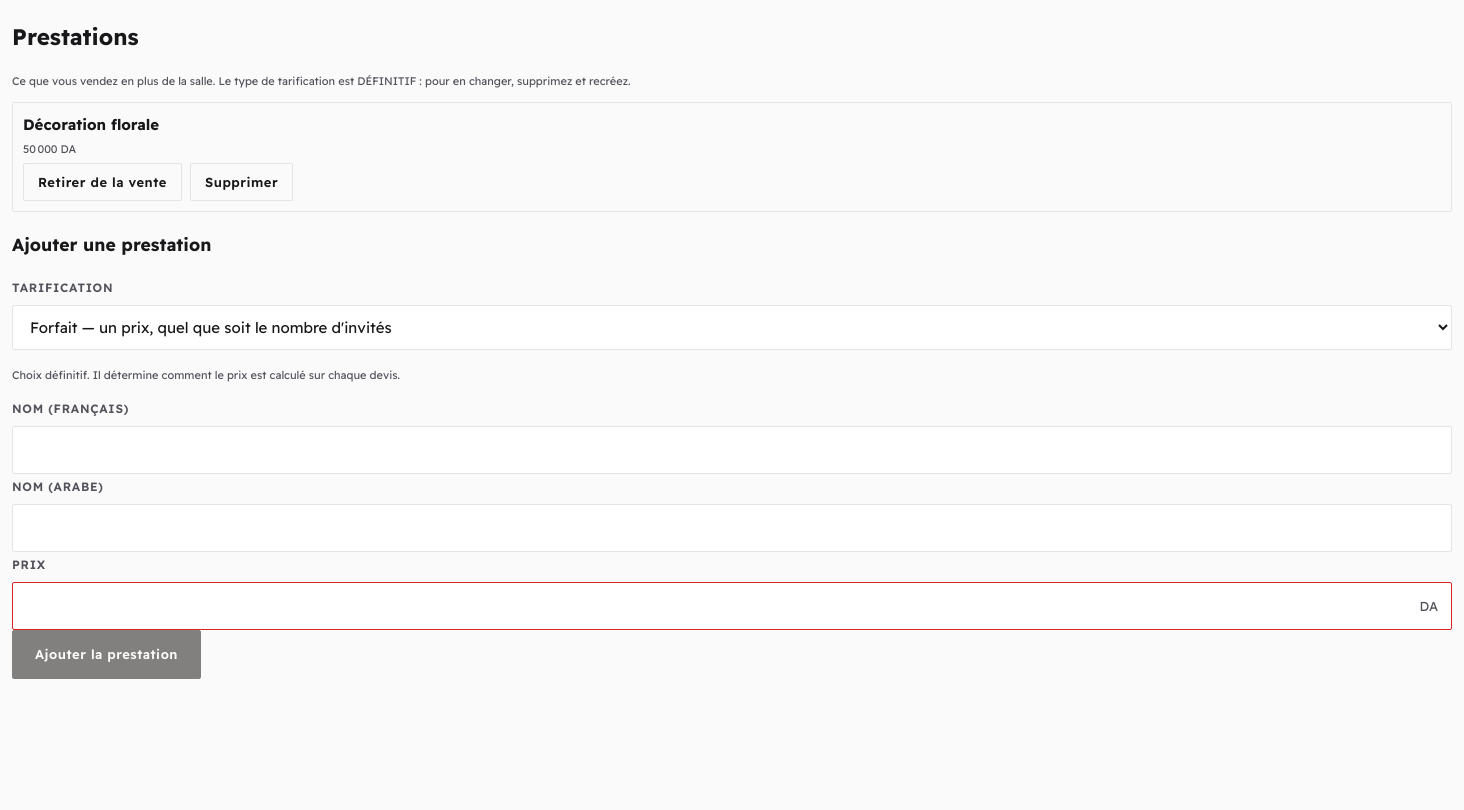
Scenario: Catalogue pro — retirer n'est pas supprimer › un refus de suppression s'affiche au lieu de disparaître
Click the button "Supprimer" at (242, 182), box x1=190 y1=162 x2=293 y2=201
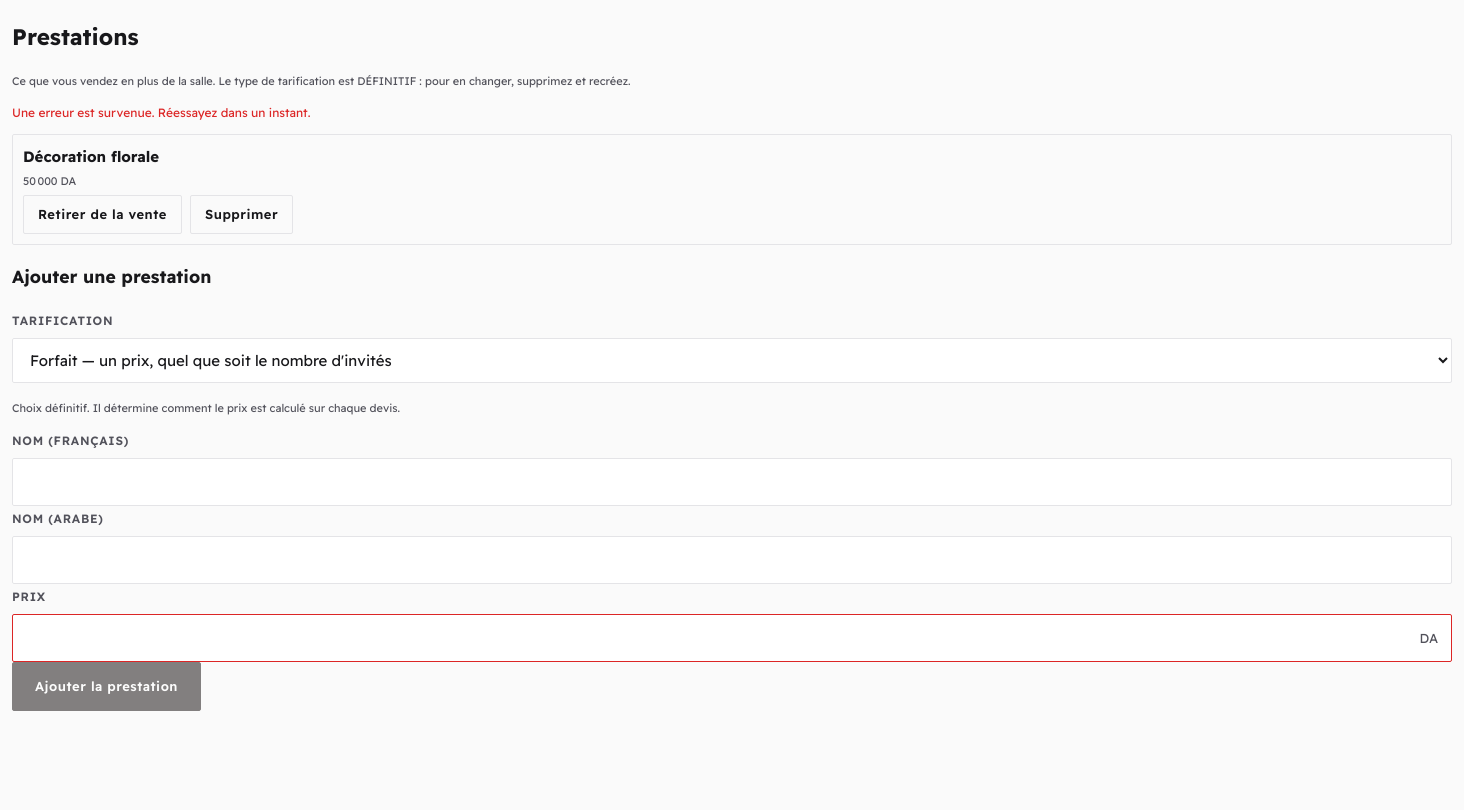
Result: the message "Une erreur est survenue. Réessayez dans un instant." is shown at x1=12 y1=105 x2=310 y2=120
